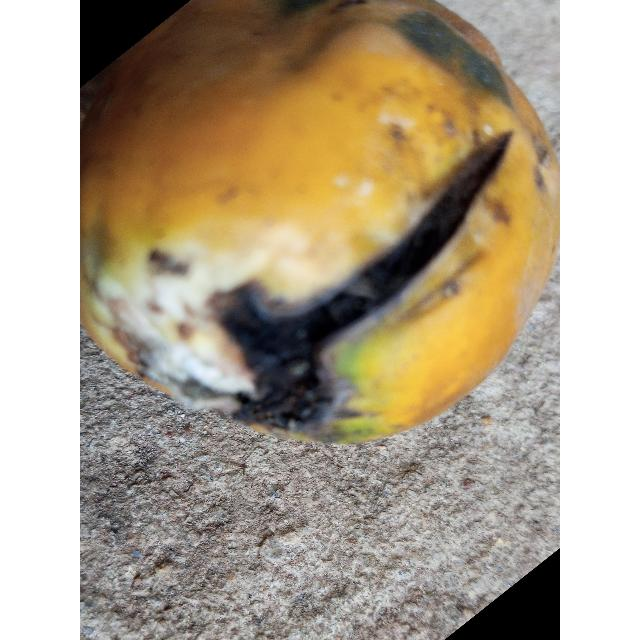damaged: (80, 0, 560, 446)
